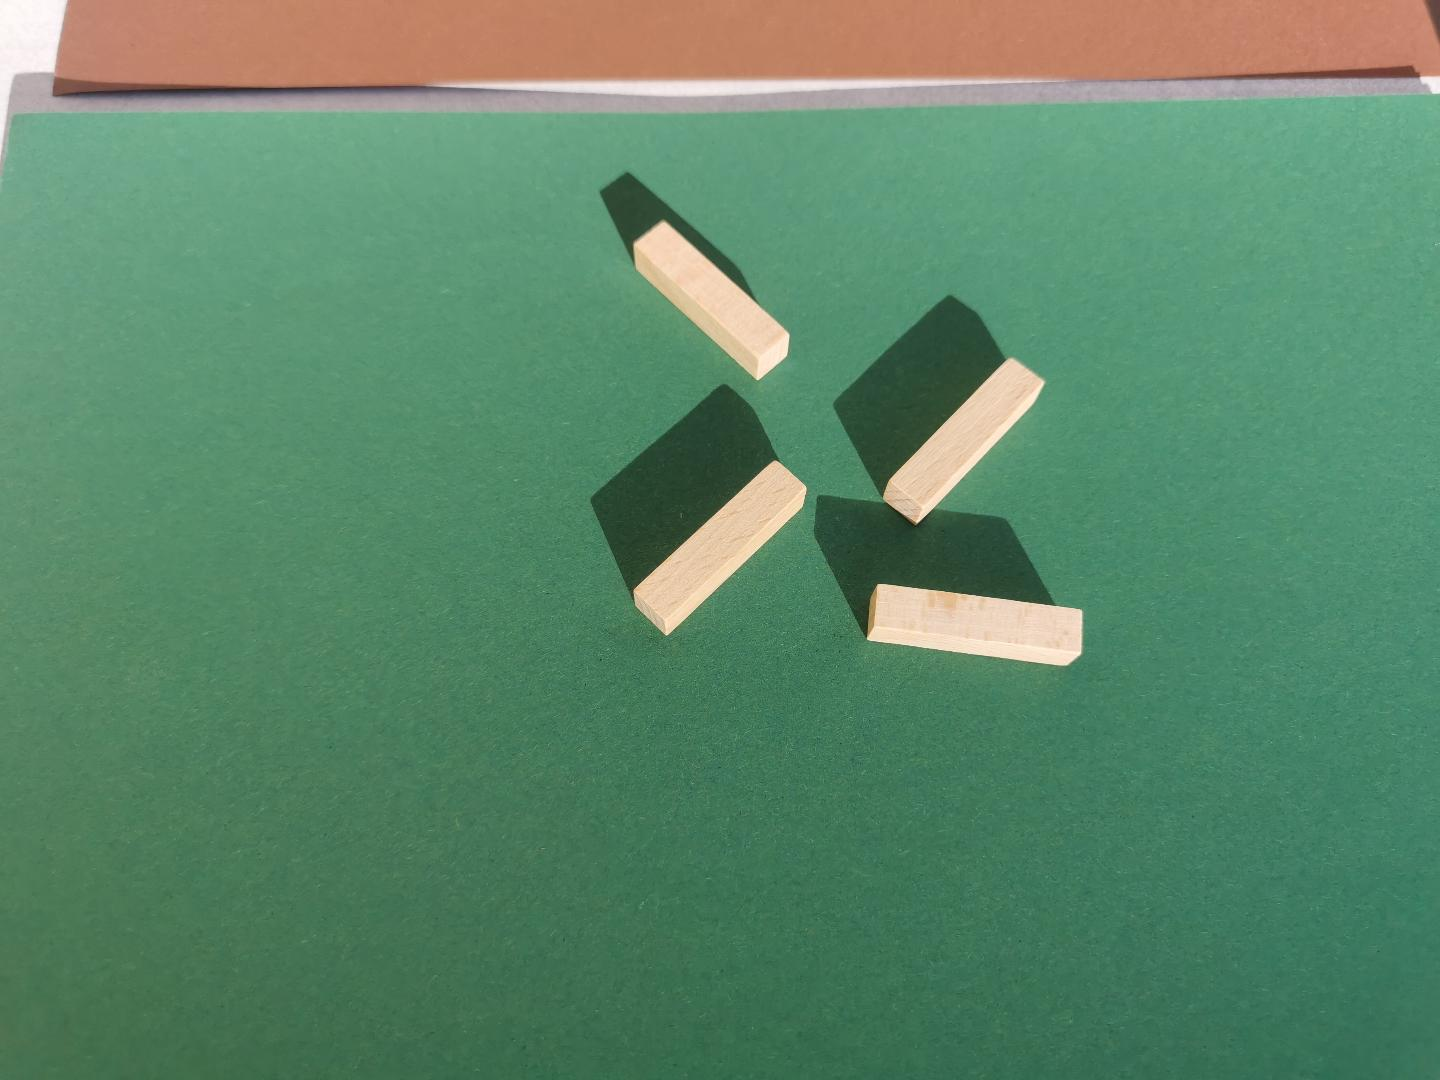jenga: (633, 462, 807, 635), (883, 360, 1043, 523), (633, 222, 790, 380), (866, 585, 1083, 667)
